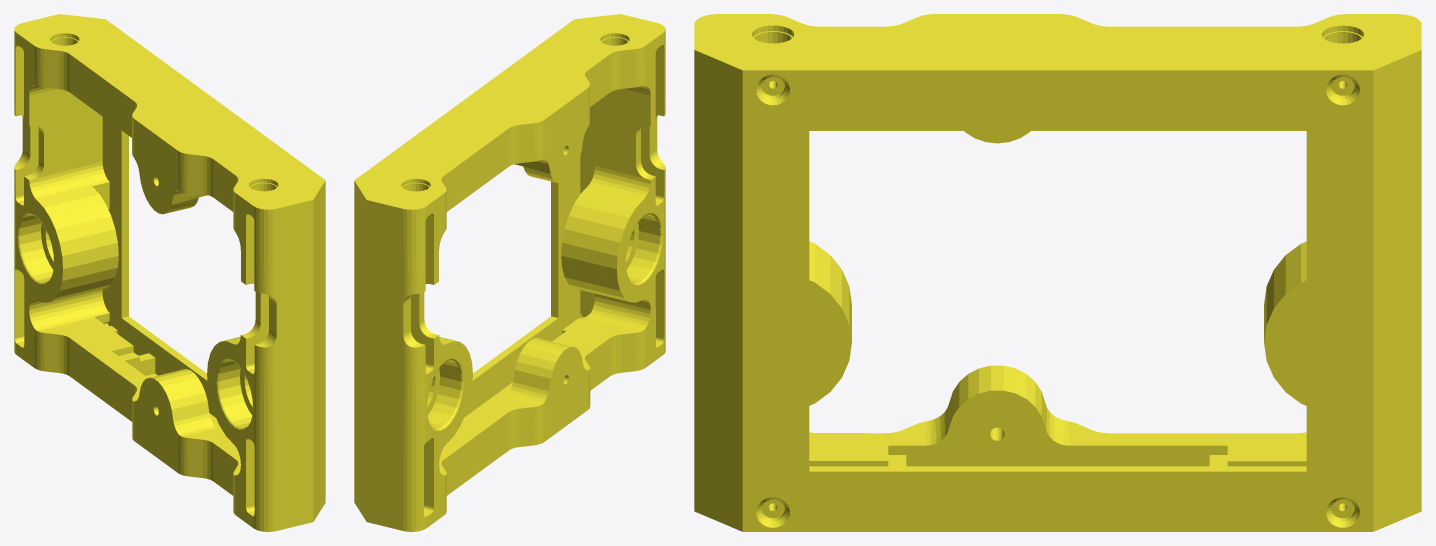
Rendered from Body_front.dae.
The picture shows the model from 3 angles, left to right: view 1: azimuth 30°, elevation 25°; view 2: azimuth 150°, elevation 25°; view 3: azimuth 270°, elevation 25°; orthographic projection. The views are drawn at different scales.
Visible parts, largest first — view 1: Body_front; view 2: Body_front; view 3: Body_front.
Part boxes in pixels (<box>): Body_front: <box>14,14,325,531</box>; Body_front: <box>354,14,665,531</box>; Body_front: <box>694,14,1421,531</box>.
Bounding box in the file's own units: 0.011 × 0.06 × 0.042.
1 material, 1 textured.
